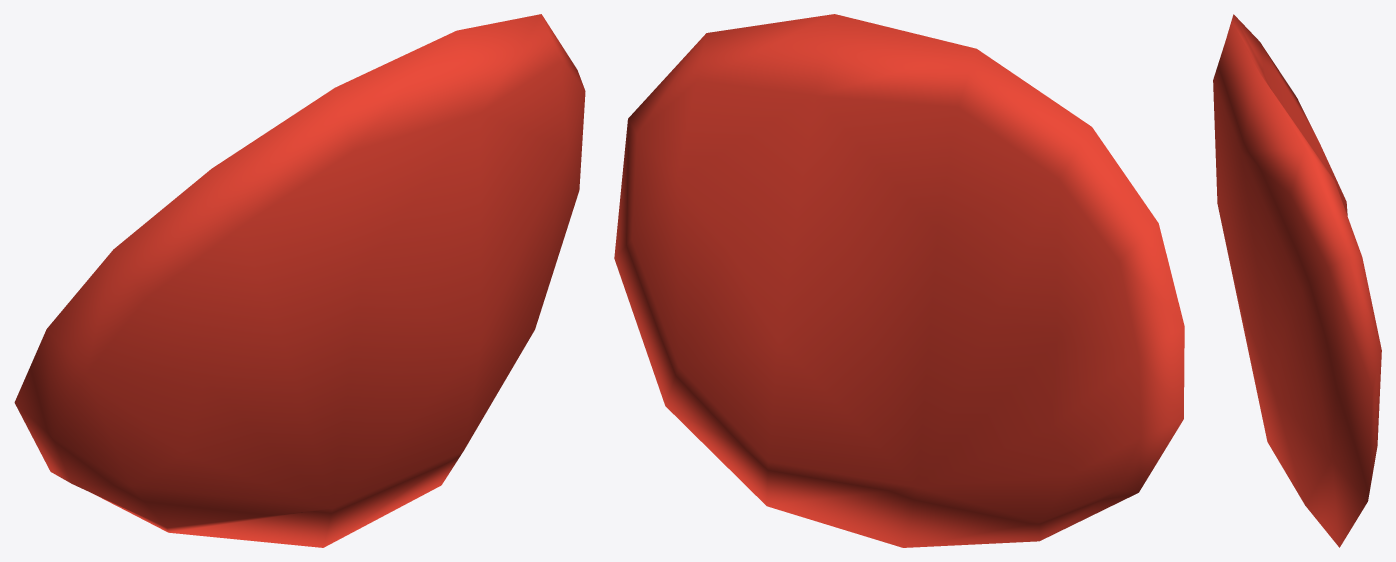
Rendered from Adductor_pollicis_brevis-Insertion.r.001_Generated_Mesh_From_X3.glb.
The picture shows the model from 3 angles, left to right: view 1: azimuth 30°, elevation 25°; view 2: azimuth 150°, elevation 25°; view 3: azimuth 270°, elevation 25°; orthographic projection. The views are drawn at different scales.
Visible parts, largest first — view 1: Adductor_pollicis_brevis-Insertion.r.001_Generated_Mesh_From; view 2: Adductor_pollicis_brevis-Insertion.r.001_Generated_Mesh_From; view 3: Adductor_pollicis_brevis-Insertion.r.001_Generated_Mesh_From.
Part boxes in pixels (x1,y1,x2,y2): Adductor_pollicis_brevis-Insertion.r.001_Generated_Mesh_From: (14,14,585,547); Adductor_pollicis_brevis-Insertion.r.001_Generated_Mesh_From: (614,14,1184,547); Adductor_pollicis_brevis-Insertion.r.001_Generated_Mesh_From: (1213,14,1381,547).
Size of the model in its own units: 0.00416 by 0.00355 by 0.00112.
